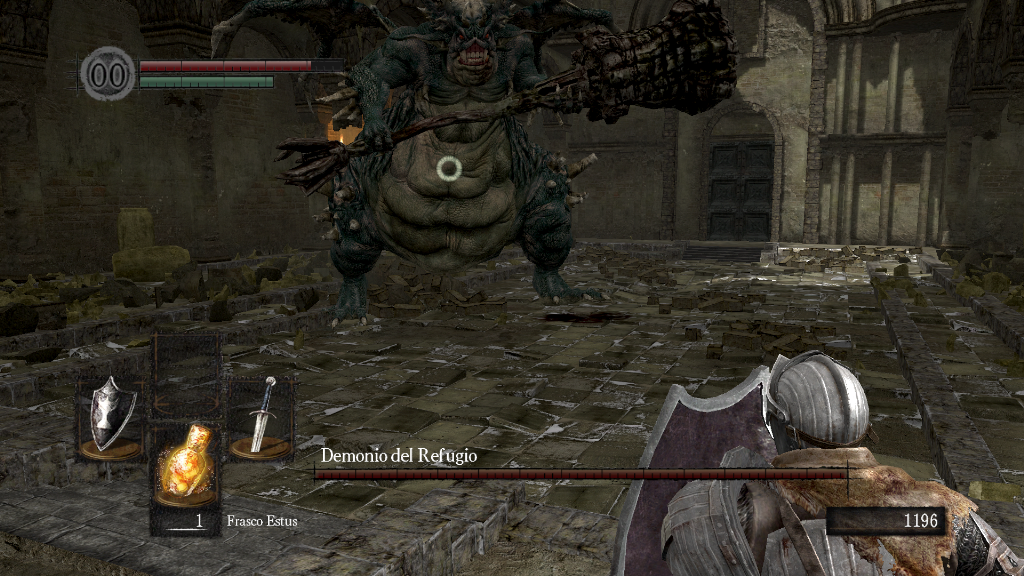asylumDemon: (274, 2, 742, 336)
bossHP: (314, 469, 847, 479)
health: (138, 58, 343, 71)
humanity: (80, 45, 136, 102)
player: (609, 346, 1023, 576)
souls: (825, 506, 945, 536)
stamina: (138, 74, 274, 88)
